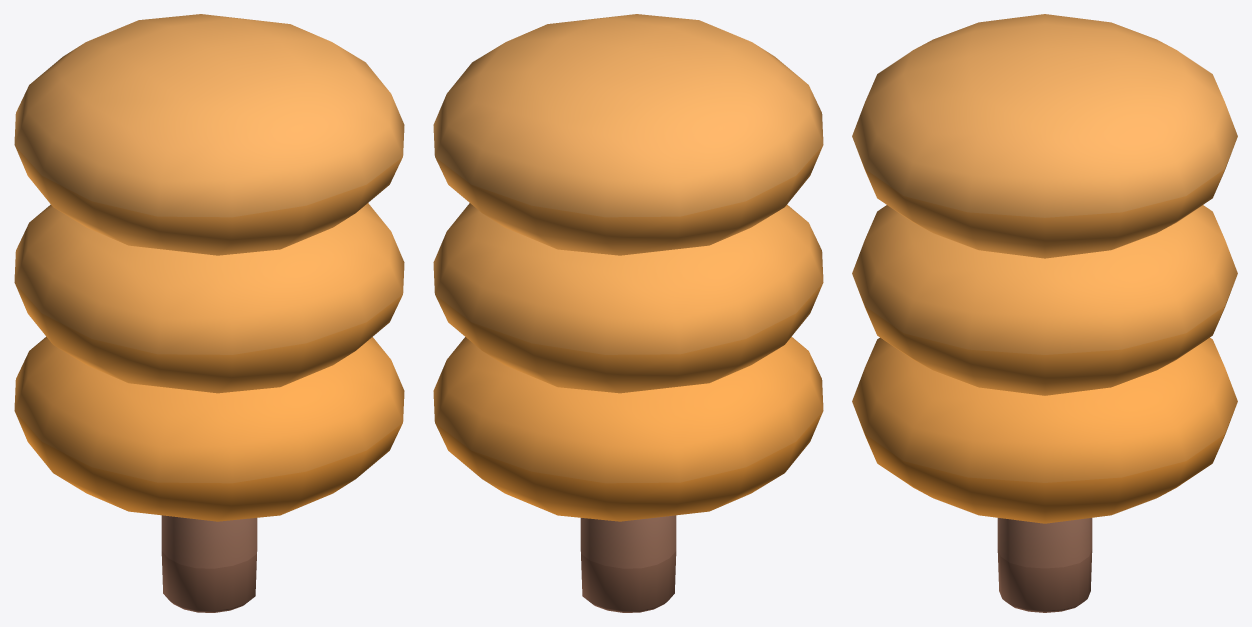
The model's file is tree_11.fbx.
The picture shows the model from 3 angles, left to right: view 1: azimuth 30°, elevation 25°; view 2: azimuth 150°, elevation 25°; view 3: azimuth 270°, elevation 25°; orthographic projection.
Parts seen in each view (by area): view 1: tree_11; view 2: tree_11; view 3: tree_11.
Boxes of the visible parts, bbox=[...] form: tree_11: bbox=[14, 14, 404, 612]; tree_11: bbox=[433, 14, 823, 612]; tree_11: bbox=[852, 14, 1237, 612].
Size of the model in its own units: 165 by 259 by 165.
